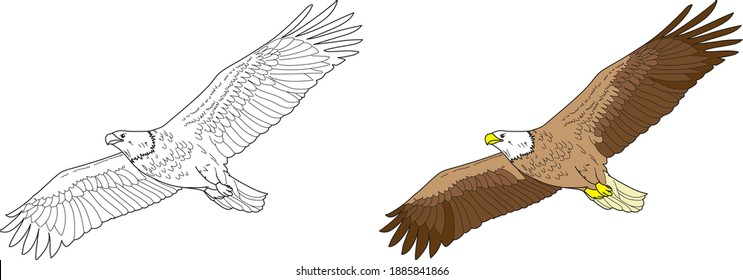bird: (1, 1, 372, 260), (373, 2, 741, 259)
